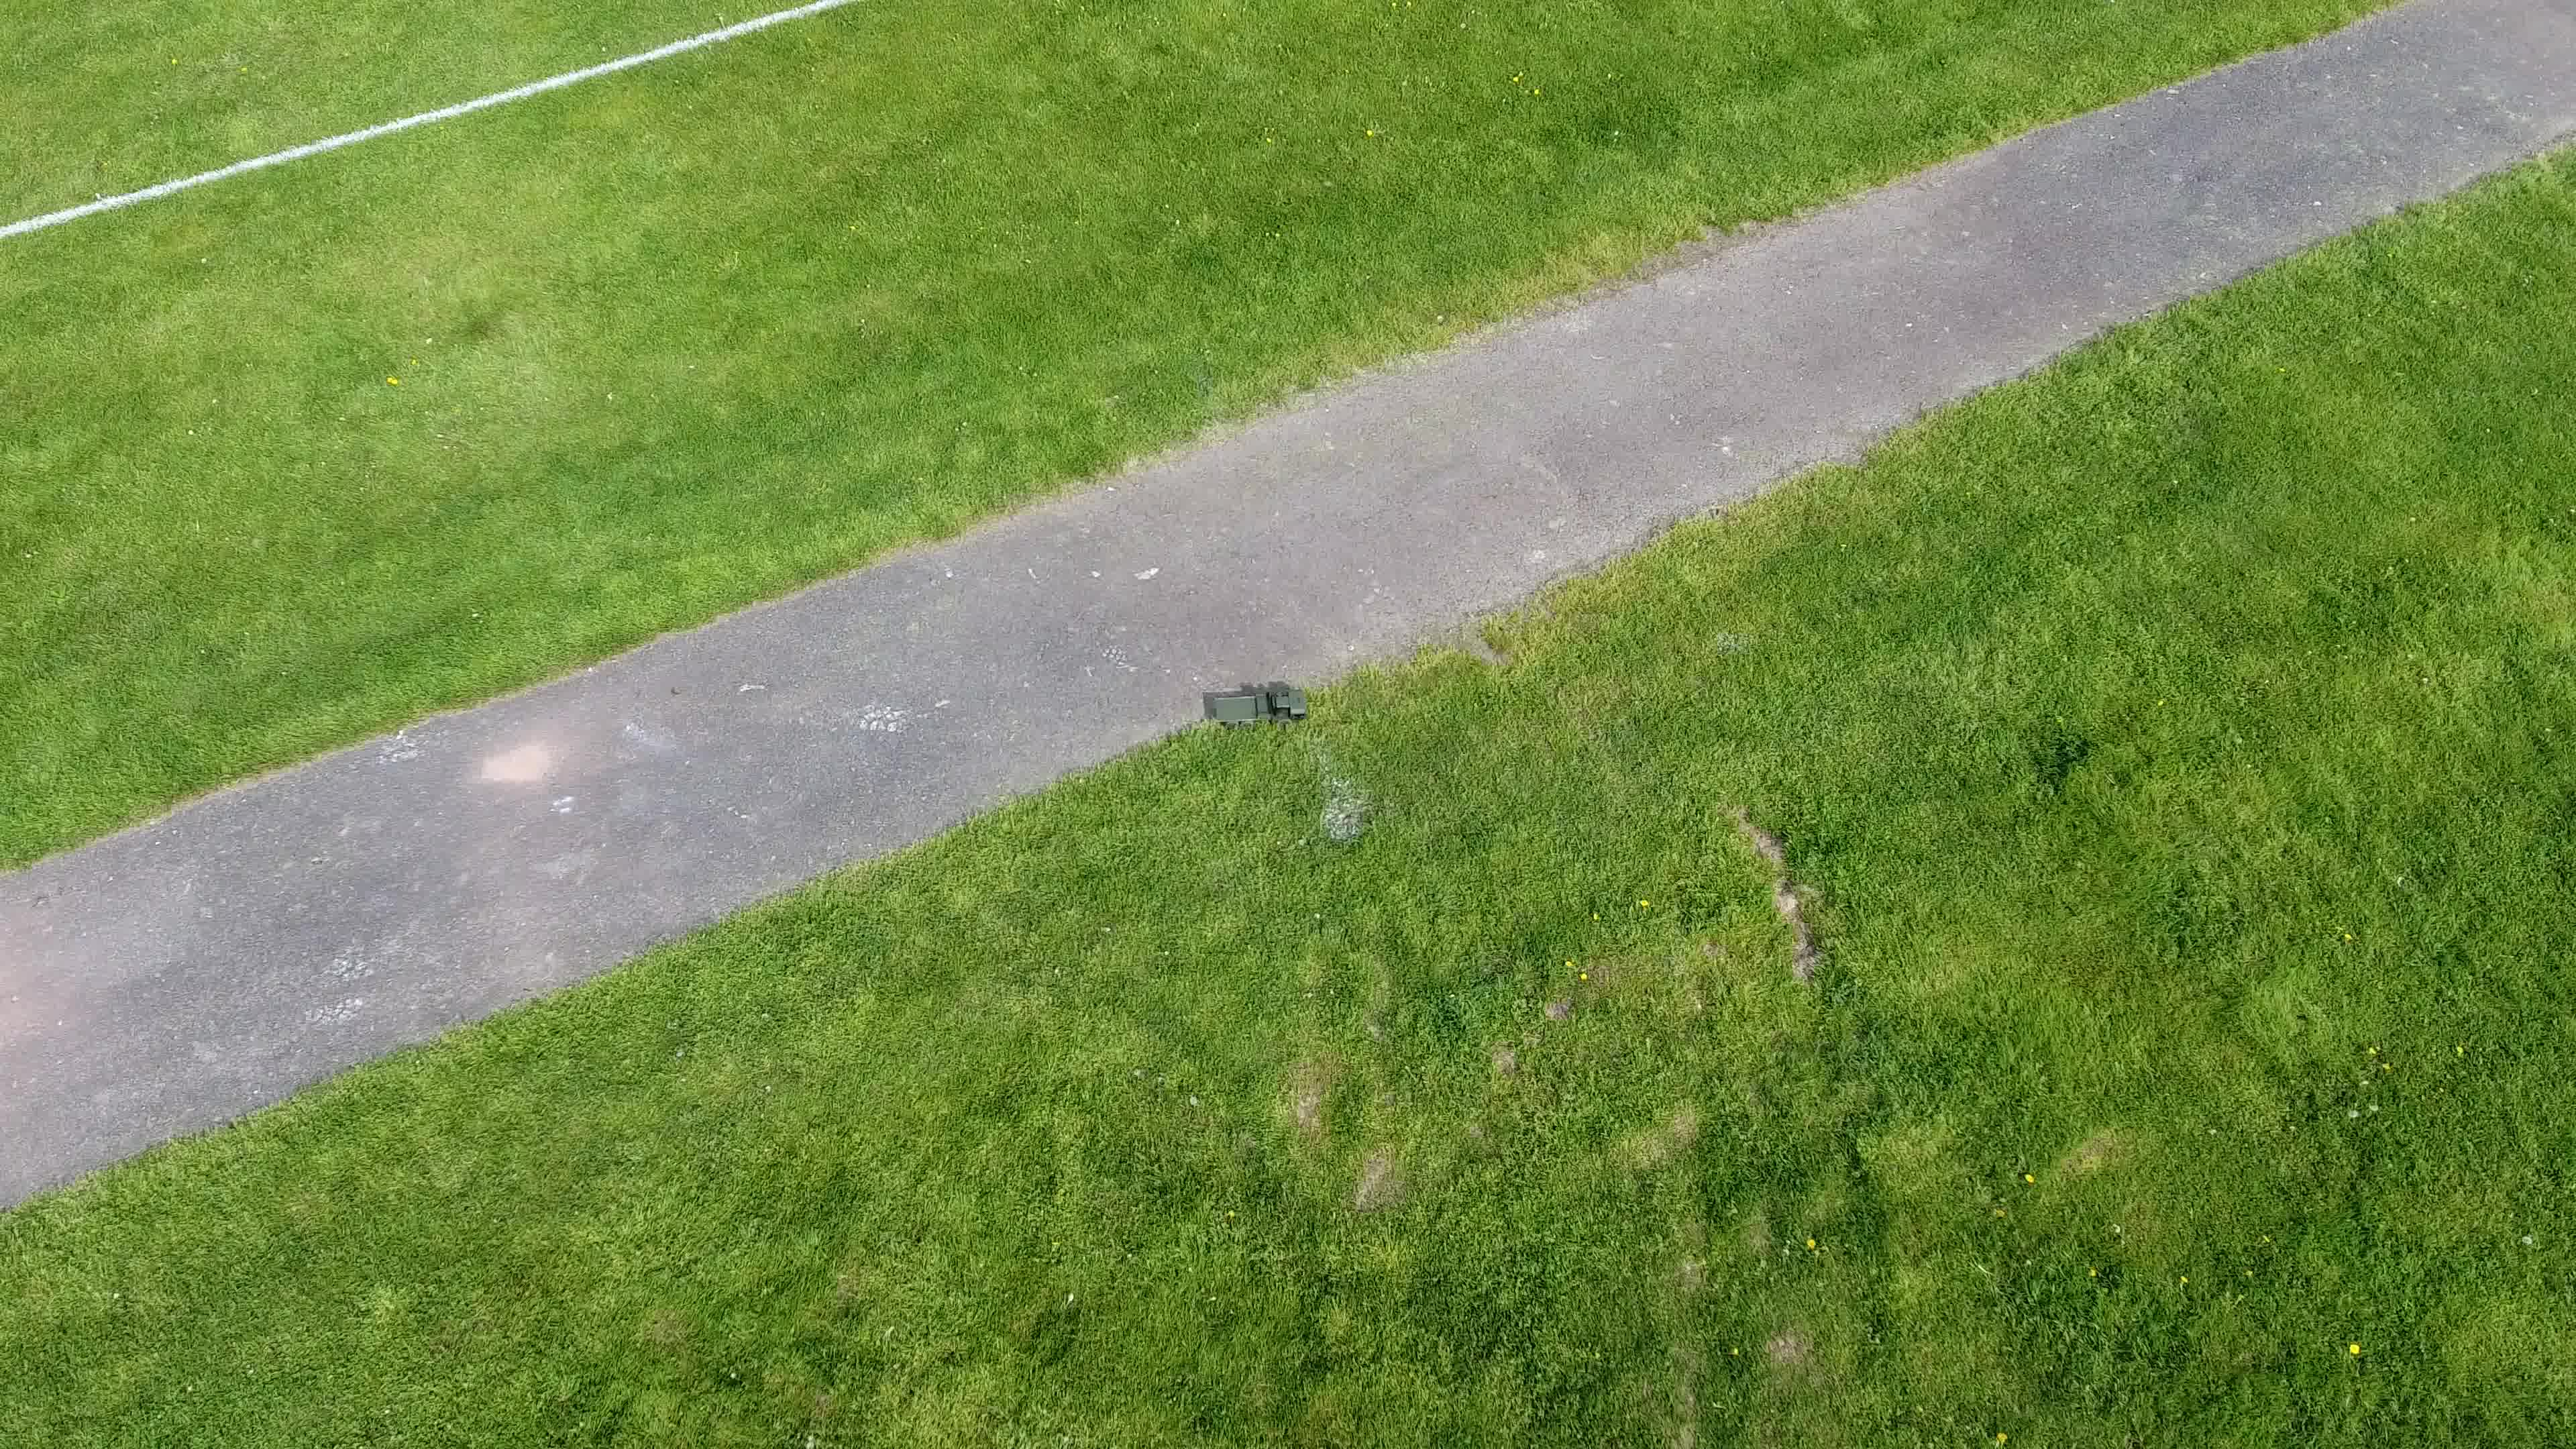transporter9: (1203, 685, 1311, 731)
